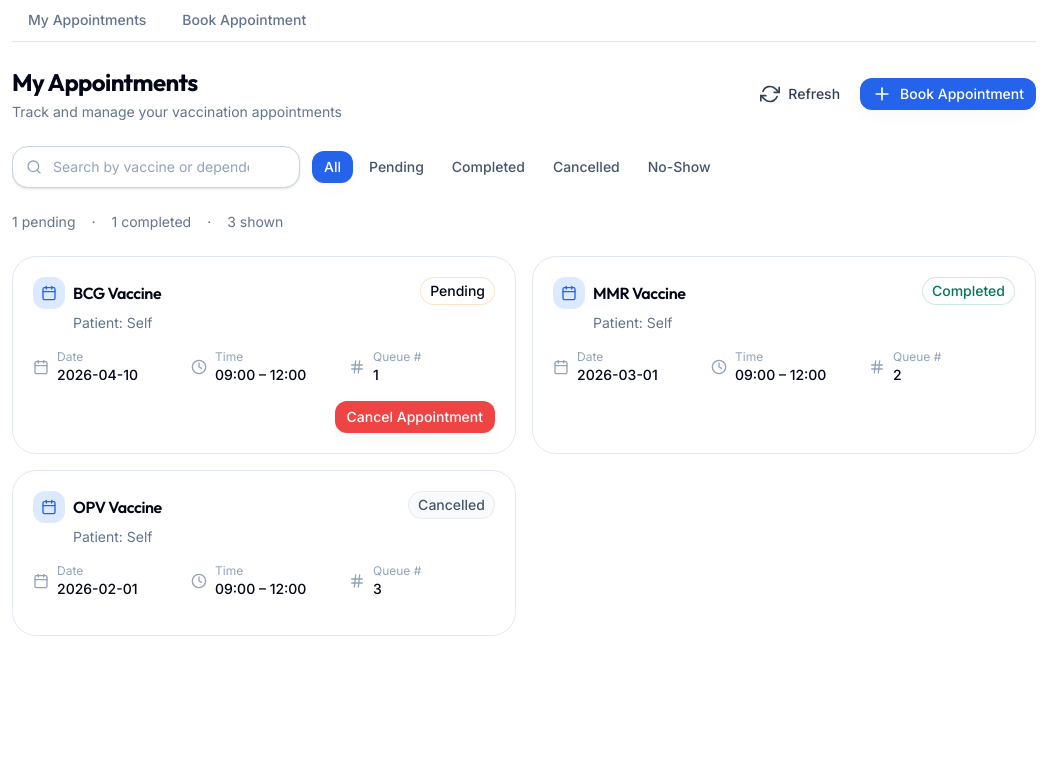
Test case: AppointmentsPage › filters to only Pending appointments when Pending tab clicked
The width and height of the screenshot is (1048, 768).
Expected: the heading "BCG Vaccine" is shown, [73,281,161,305]
Click the button "Pending". click: (396, 167)
box: [357,151,436,183]
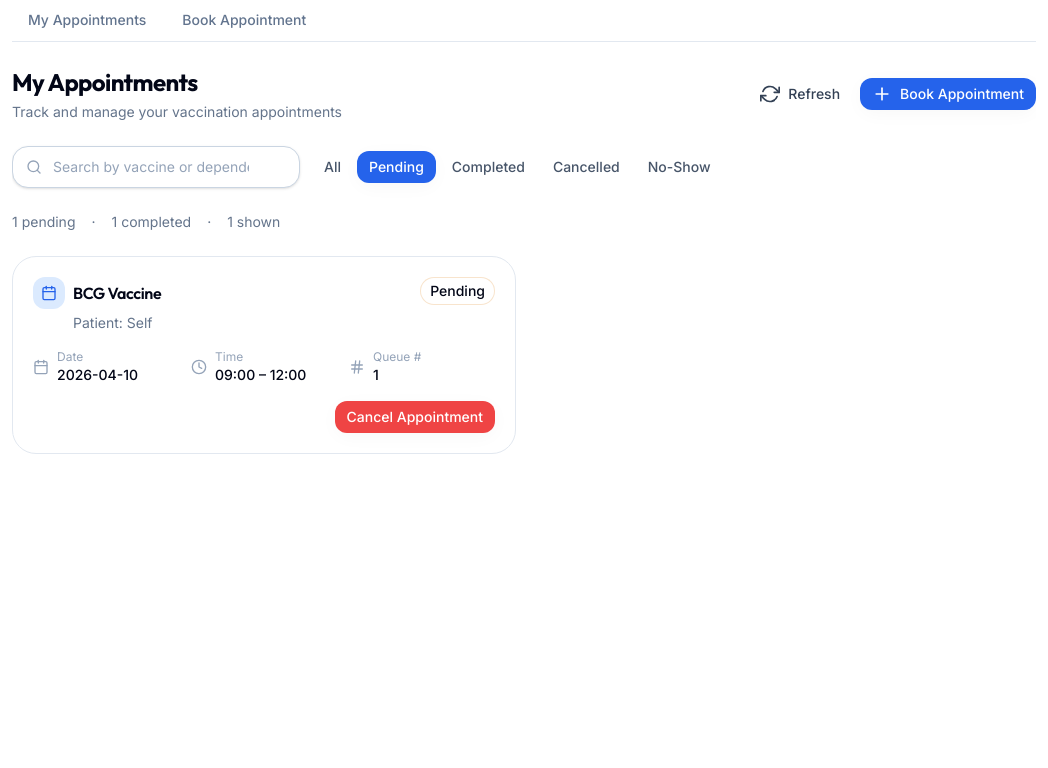
Expected: the heading "BCG Vaccine" is shown, [73,281,161,305]
Expected: the heading "MMR Vaccine" is gone
Expected: the heading "OPV Vaccine" is gone
